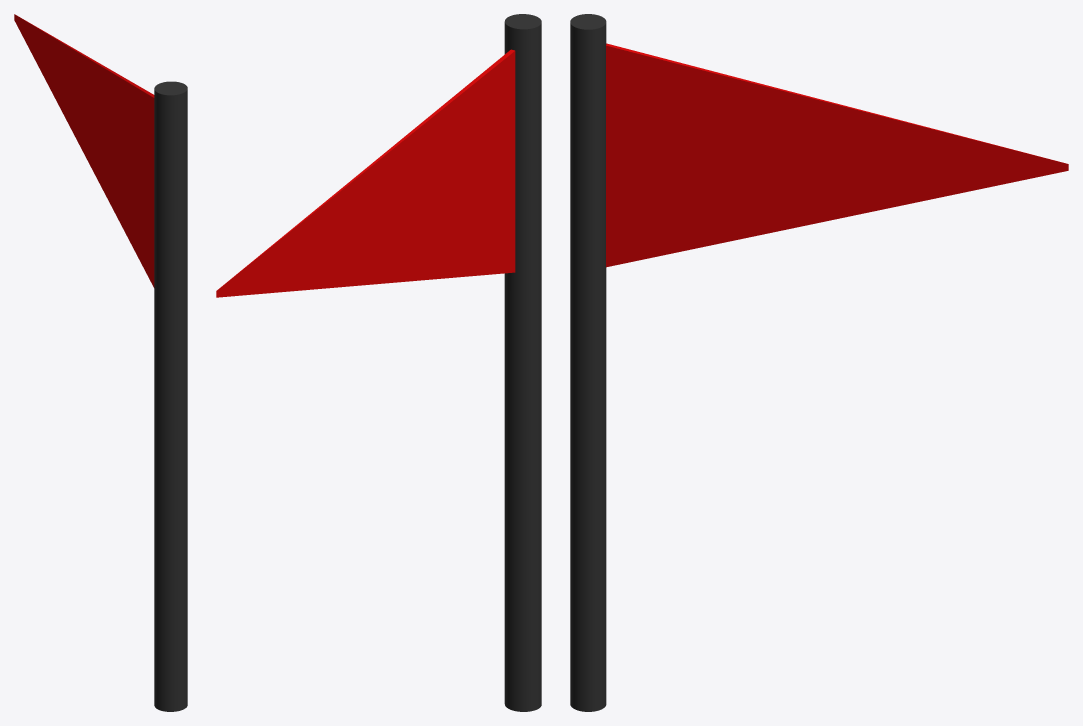
File: FlagsRed.fbx
3 renders of one model, left to right at view 1: azimuth 30°, elevation 25°; view 2: azimuth 150°, elevation 25°; view 3: azimuth 270°, elevation 25°, orthographic. The views are drawn at different scales.
Visible parts, largest first — view 1: Cylinder; view 2: Cylinder; view 3: Cylinder.
Part boxes in pixels (x1,y1,x2,y2): Cylinder: (14, 14, 187, 711); Cylinder: (216, 14, 541, 711); Cylinder: (570, 14, 1068, 711).
Size of the model in its own units: 84.1 by 662 by 438.
